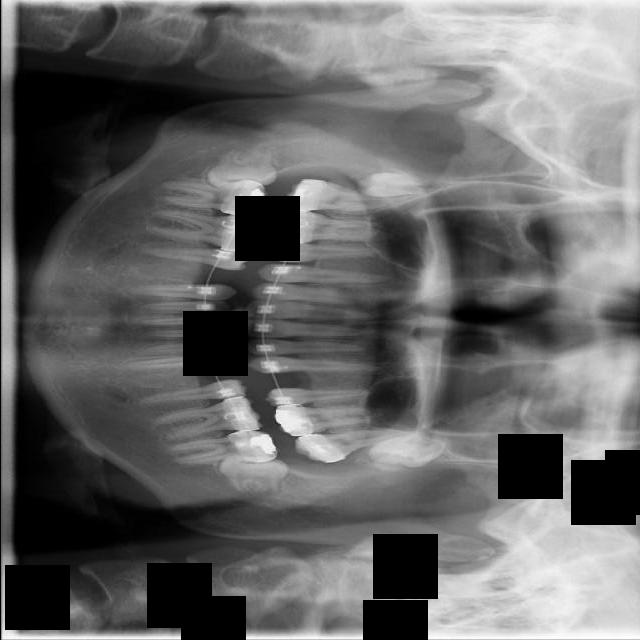3M ESPE Implant: (357, 173, 441, 197)
52: (216, 175, 267, 219), (227, 430, 277, 463), (273, 405, 315, 435)
73: (68, 578, 98, 584)
BioHorizons Implant: (291, 424, 420, 466)
BioLife Implant: (366, 429, 446, 472)
Biomet 3i Implant: (217, 452, 288, 497)
Blue Sky Bio Implant: (169, 428, 277, 466)
Caries: (278, 178, 424, 213)
Implant: (161, 176, 267, 216)
Keystone Dental Implant: (202, 145, 278, 195)
